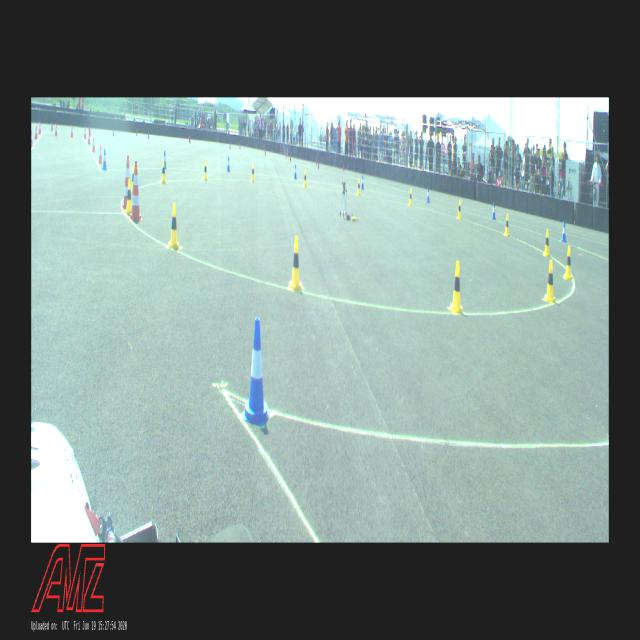blue_cone: (242, 318, 270, 426), (102, 149, 106, 170), (562, 221, 566, 242), (162, 150, 166, 168), (492, 203, 496, 219), (426, 187, 429, 203), (227, 156, 230, 172), (294, 165, 297, 179), (361, 176, 364, 190)
large_orange_cone: (130, 162, 142, 222), (123, 156, 130, 210)
orange_cone: (99, 144, 102, 164), (31, 130, 33, 146), (93, 138, 95, 152), (36, 125, 38, 139), (56, 124, 58, 136), (39, 122, 41, 134), (88, 132, 90, 144), (71, 126, 73, 137), (84, 128, 86, 138)
unknown_cone: (52, 122, 52, 132)
yellow_cone: (290, 237, 304, 290), (450, 262, 462, 314), (169, 203, 179, 248), (545, 260, 555, 303), (564, 246, 572, 278), (125, 178, 132, 214), (544, 230, 550, 256), (162, 160, 166, 183), (504, 214, 508, 236), (457, 200, 461, 220), (204, 161, 208, 181), (303, 170, 307, 188), (408, 188, 412, 206), (251, 164, 255, 182), (132, 166, 134, 192), (358, 179, 360, 195)
